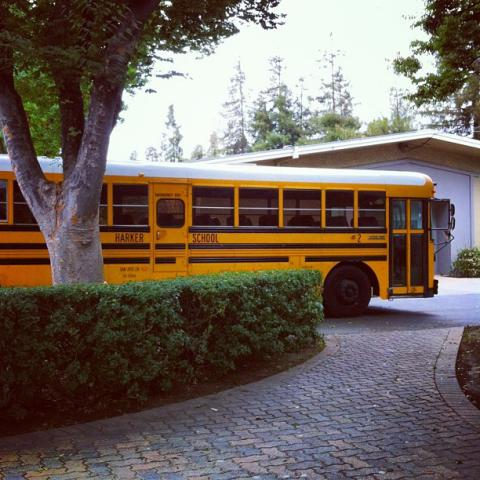bus: (0, 156, 434, 310)
